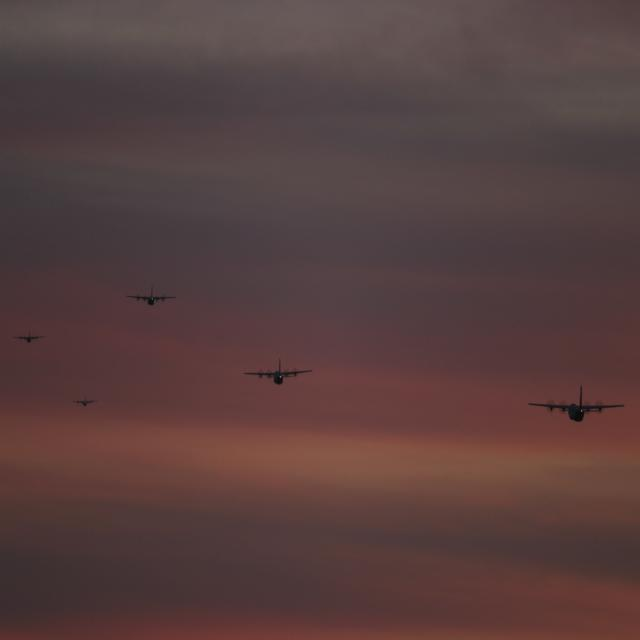MIL_Plane: (528, 64, 625, 101), (244, 358, 312, 385), (126, 254, 176, 274), (13, 330, 45, 343), (72, 73, 98, 83)
